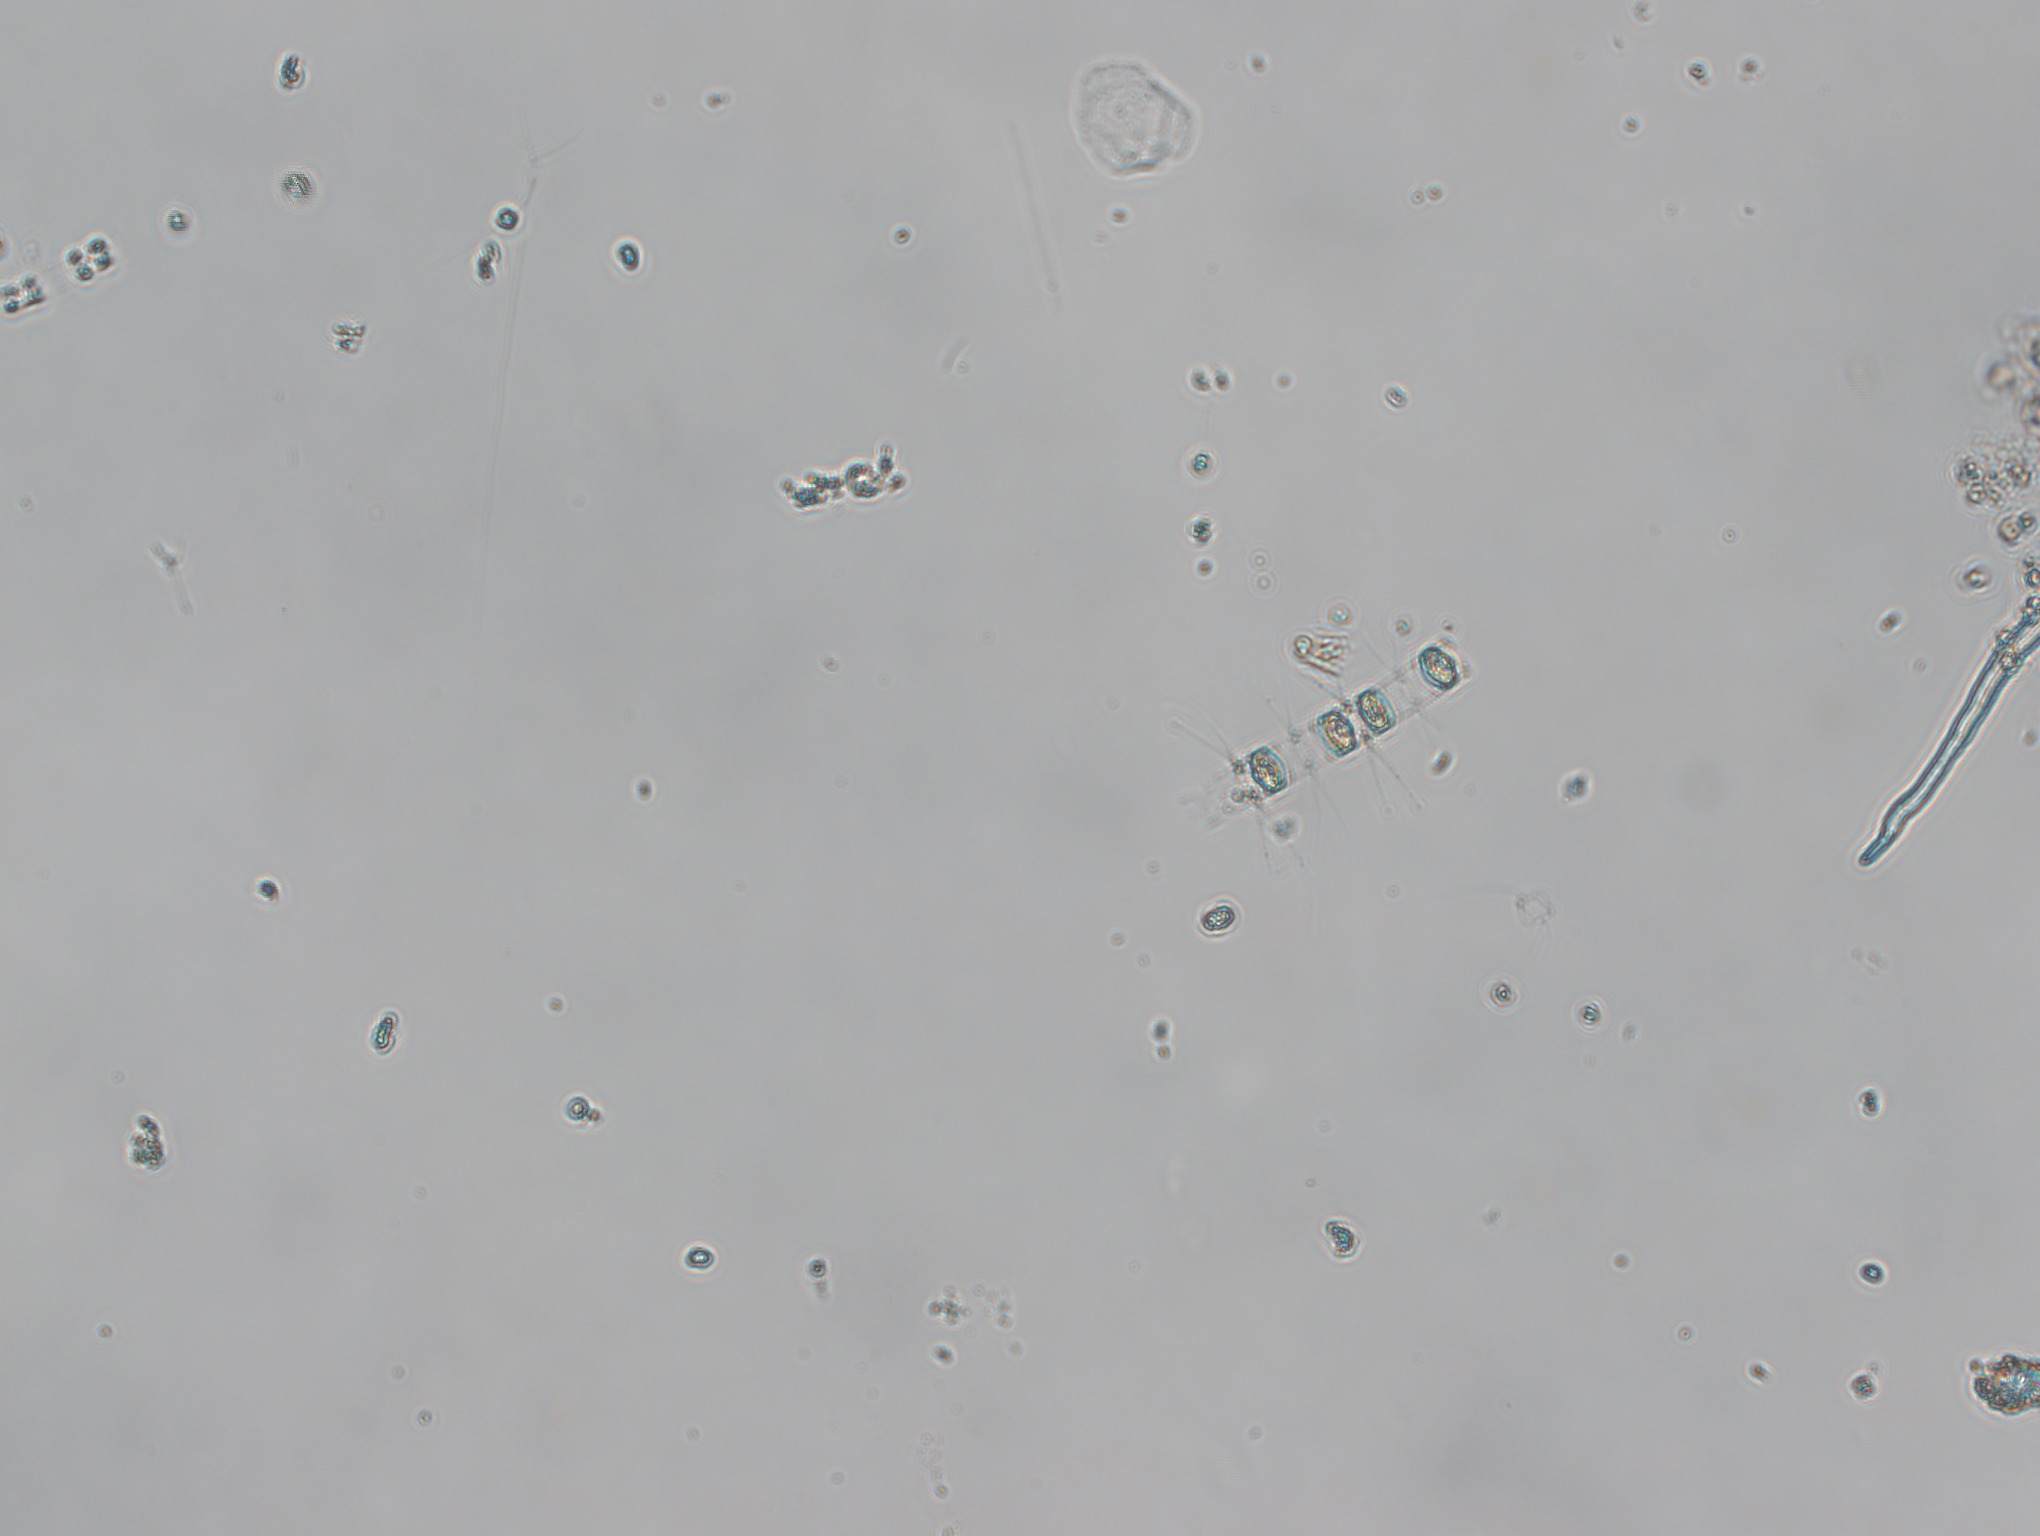chaetoceros: (1159, 620, 1480, 884)
